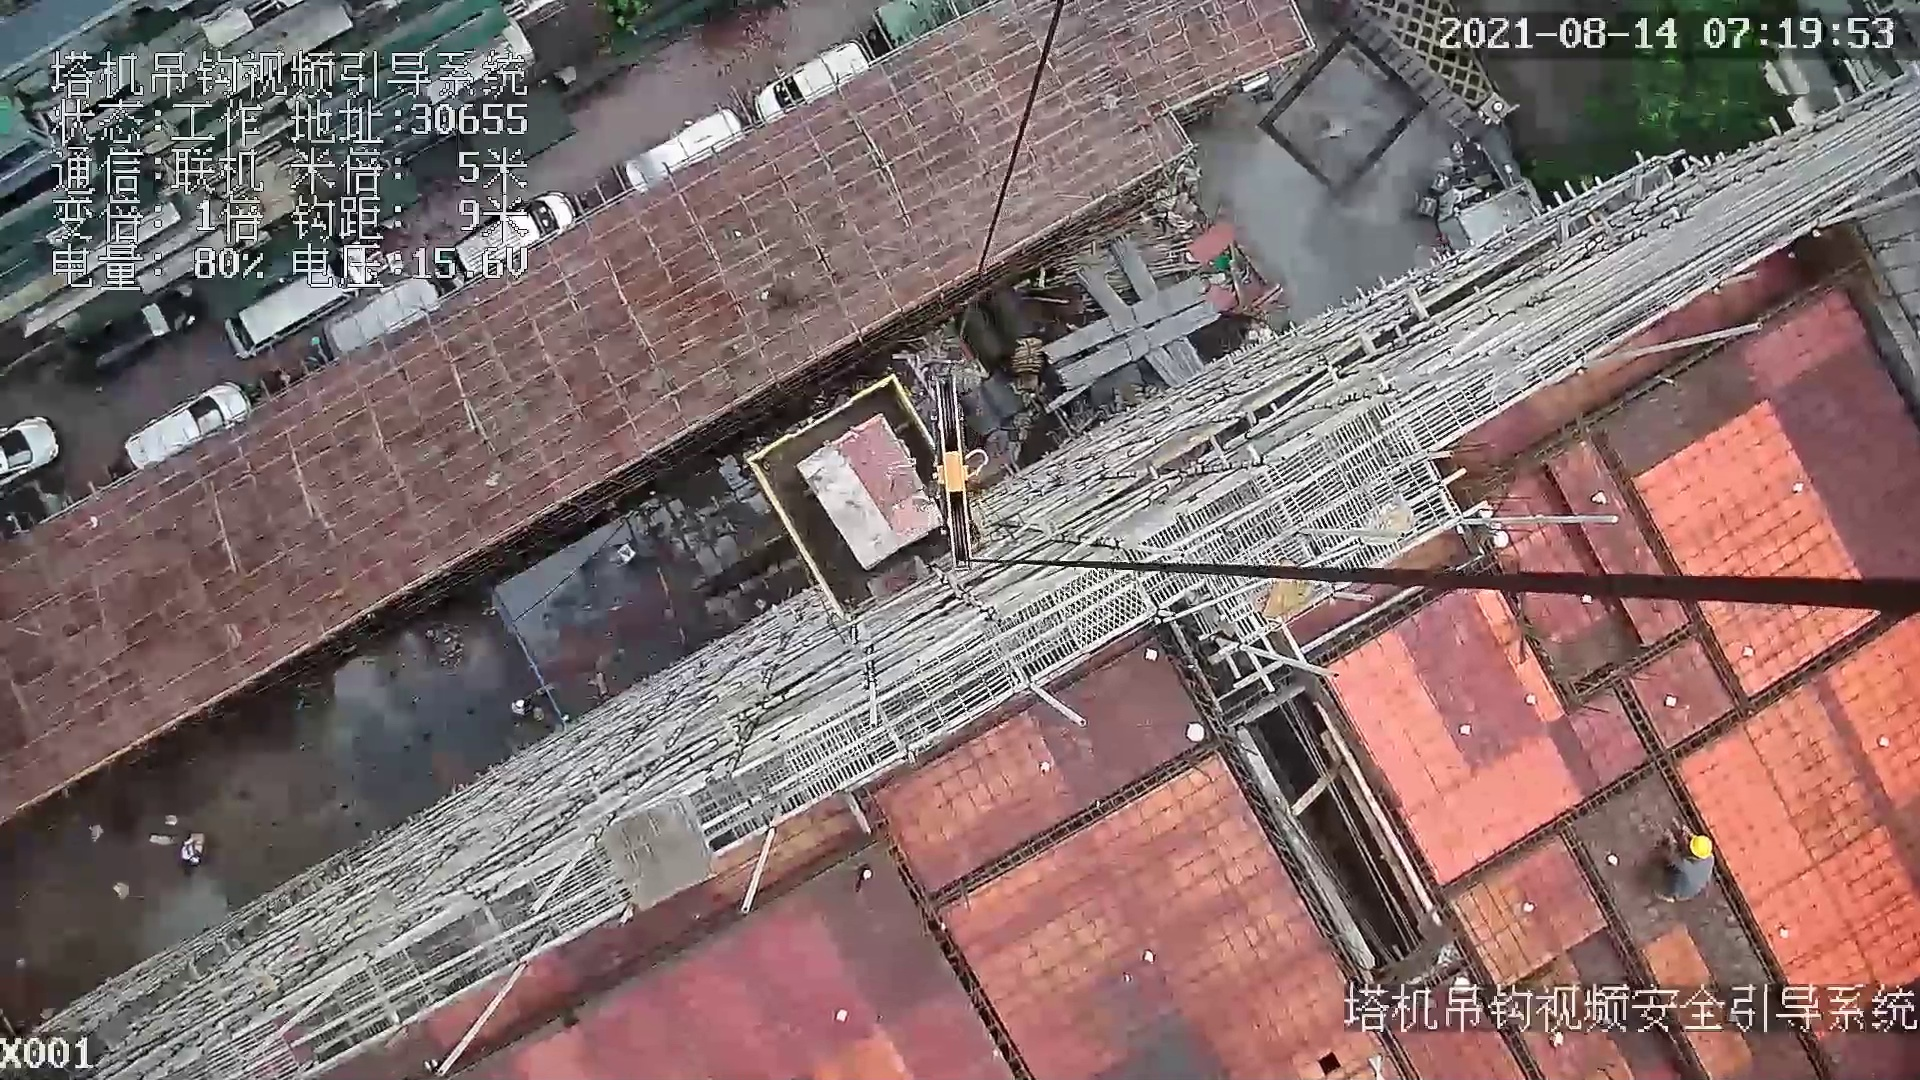helmet: (1688, 829, 1711, 861)
hook: (918, 369, 997, 580)
person: (1656, 819, 1717, 913)
